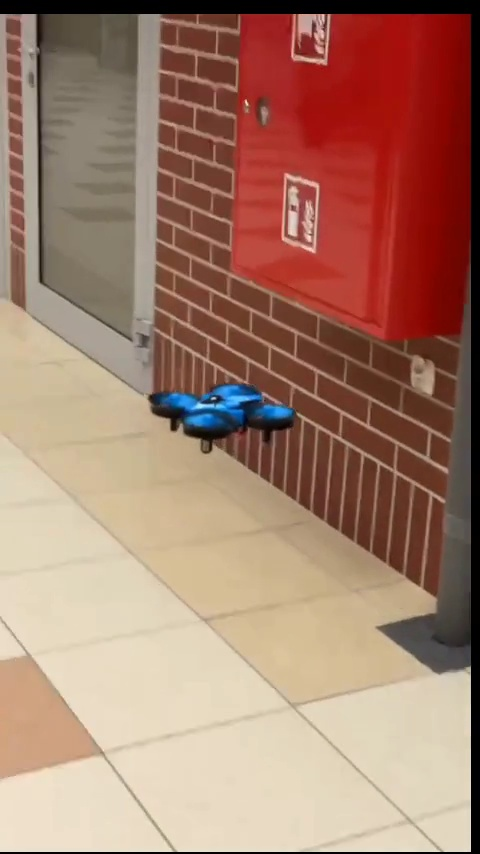drone: (144, 379, 293, 456)
